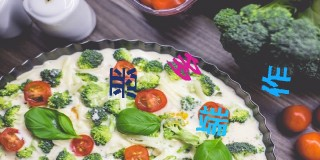作: (259, 64, 292, 96)
多: (167, 49, 202, 81)
恶: (108, 64, 139, 100)
端: (195, 105, 231, 137)
